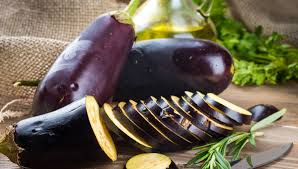eggplant: (1, 88, 276, 169), (23, 0, 154, 122), (109, 22, 249, 104)
